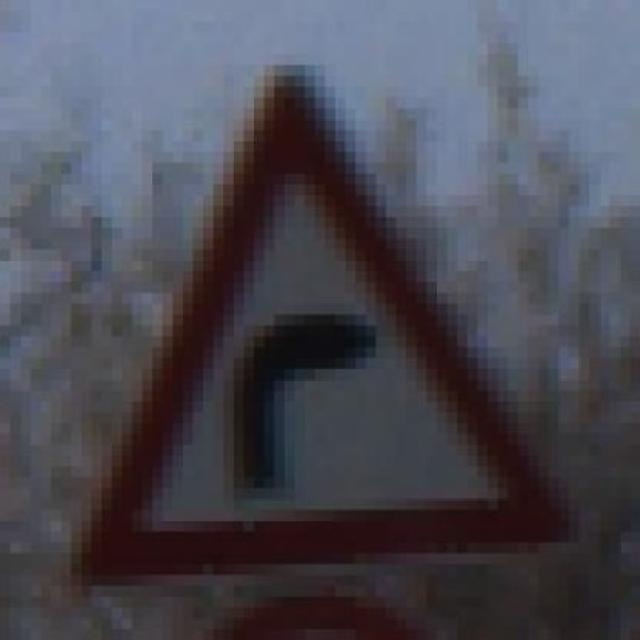Dangerous Rright Curve Ahead: (50, 54, 579, 575)
